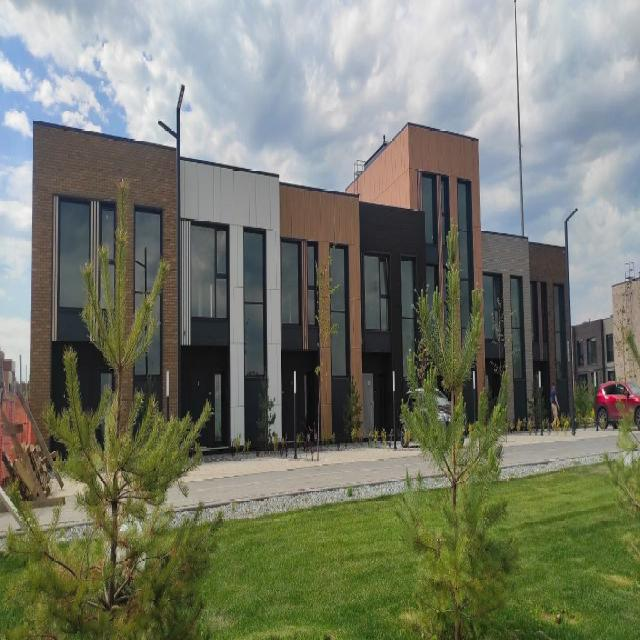Building: (31, 118, 570, 437)
